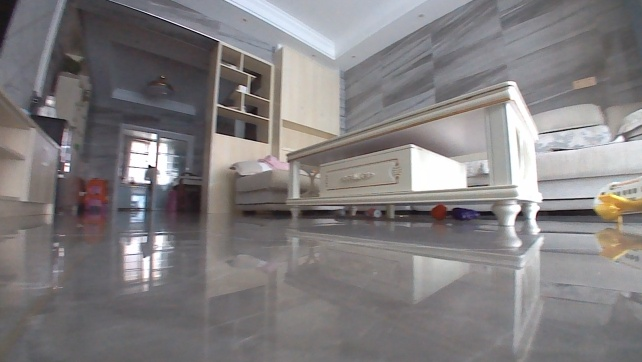TV_stand1: (0, 84, 64, 224)
plastic_toy: (430, 204, 482, 224)
sofa1: (534, 95, 641, 219), (226, 152, 297, 218)
tea_table: (282, 77, 542, 230)
